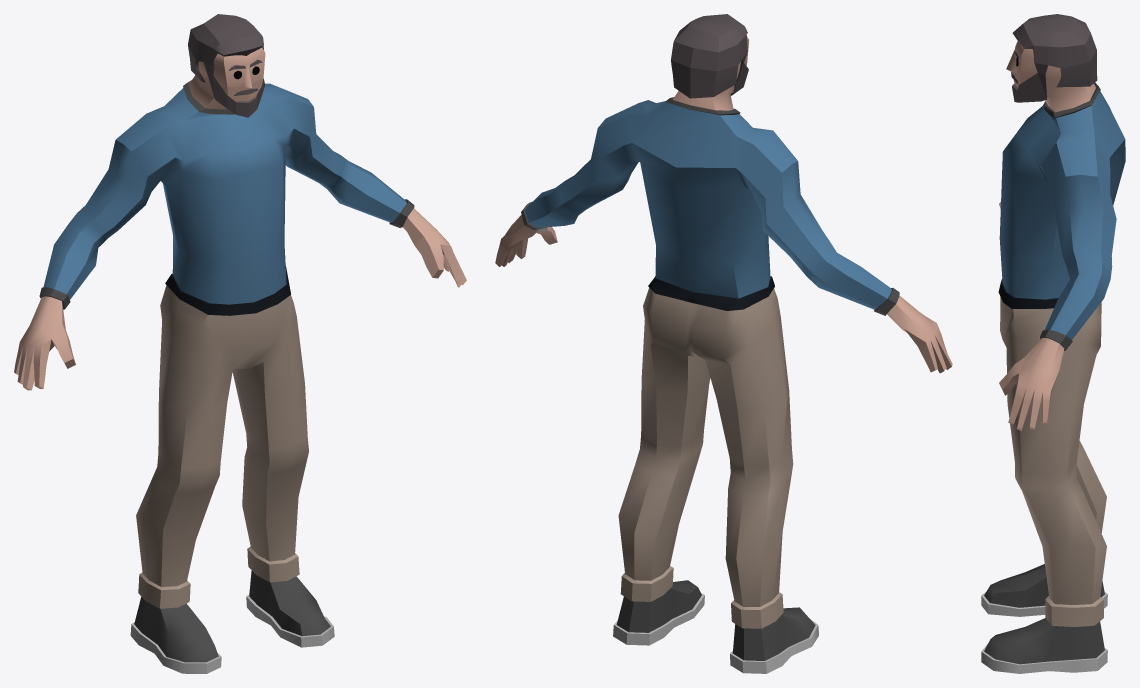
The model's file is LowPolyCharacter1.gltf.
3 views of the same model, side by side, from view 1: azimuth 30°, elevation 25°; view 2: azimuth 150°, elevation 25°; view 3: azimuth 270°, elevation 25° (orthographic).
Parts seen in each view (by area): view 1: lowPolyCharacterFace_EXP; view 2: lowPolyCharacterFace_EXP; view 3: lowPolyCharacterFace_EXP.
Part boxes in pixels (box(x1,y1,x2,y2)): lowPolyCharacterFace_EXP: box(14, 14, 466, 673); lowPolyCharacterFace_EXP: box(495, 14, 952, 673); lowPolyCharacterFace_EXP: box(981, 14, 1125, 673).
Bounding box in the file's own units: 139 × 184 × 39.22.
